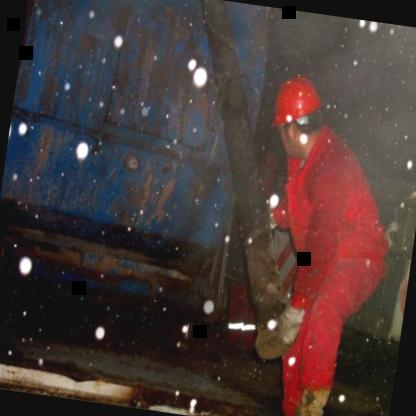helmet: (268, 74, 332, 160)
